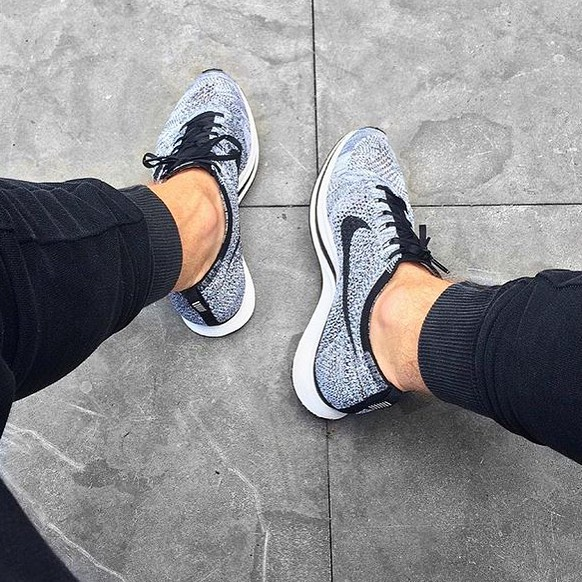sneaker: (275, 110, 453, 450), (135, 54, 279, 357)
